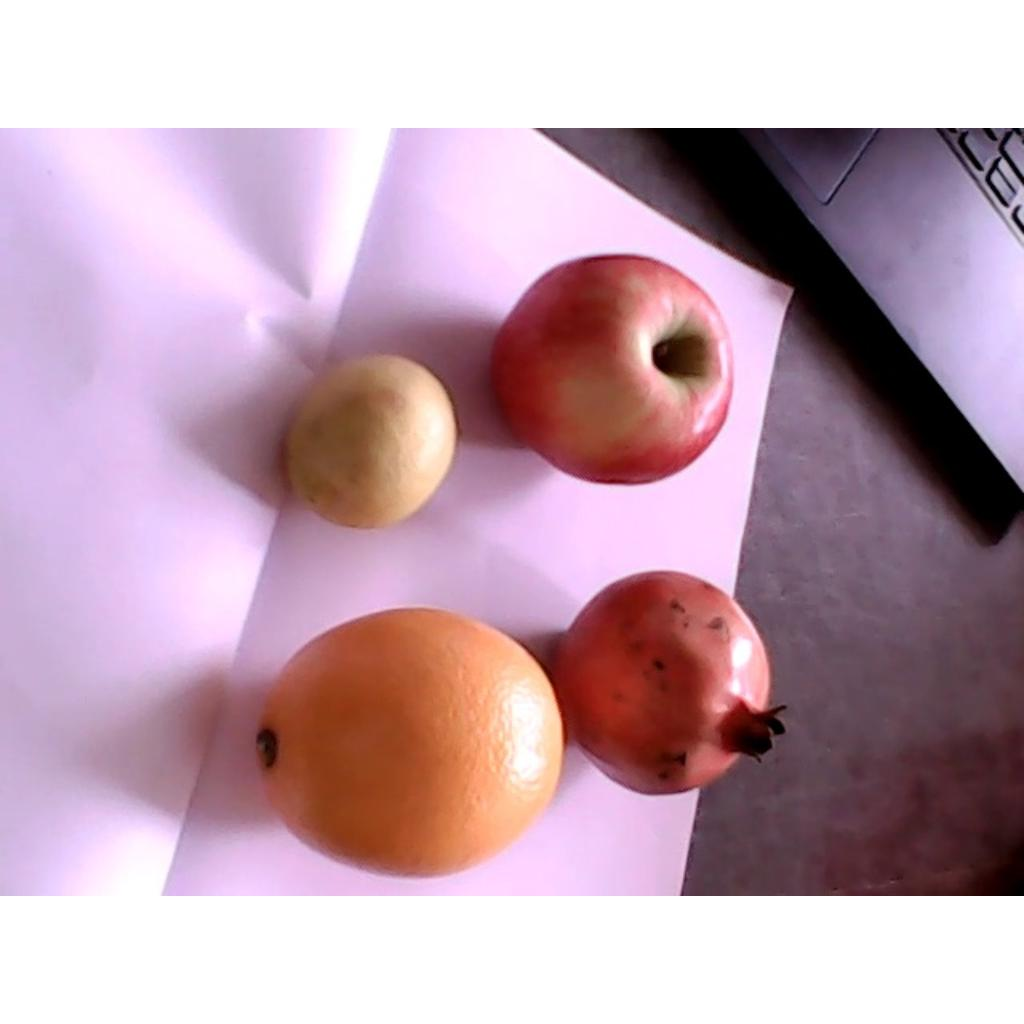apple: (488, 254, 735, 485)
lemon: (287, 352, 457, 533)
orange: (250, 604, 566, 879)
pomegranate: (553, 570, 787, 797)
